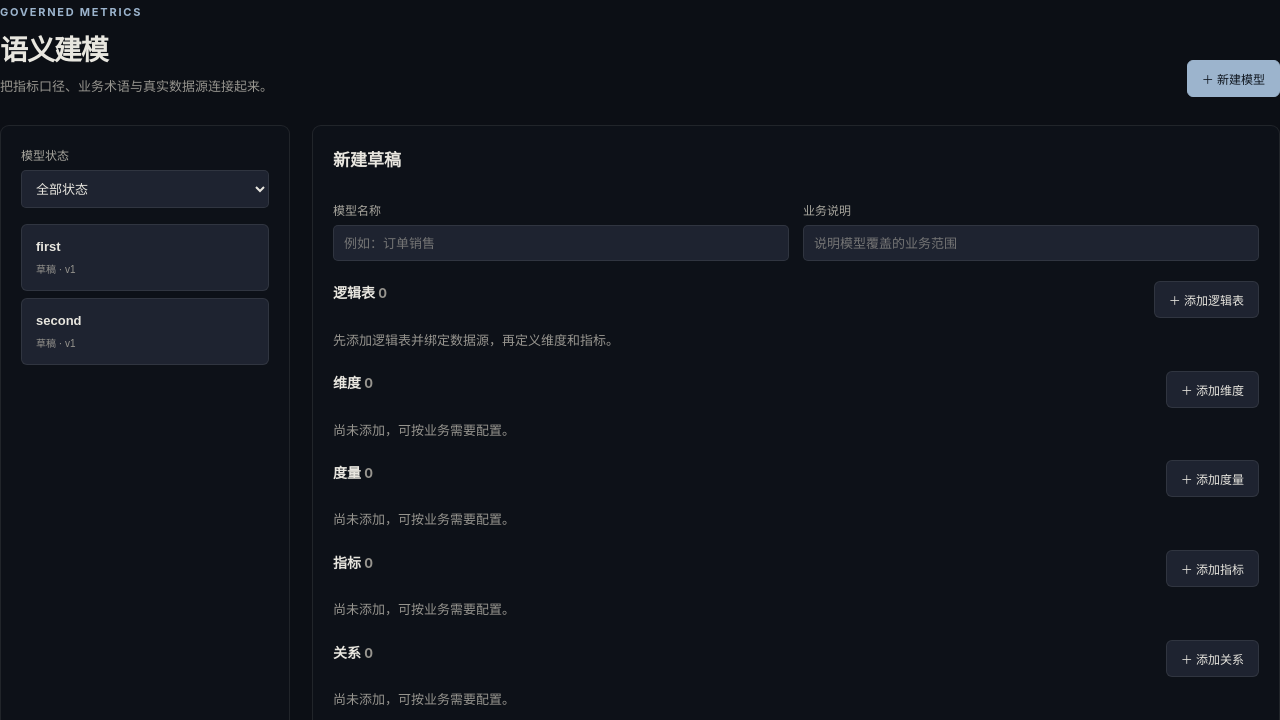
Scenario: semantic modeling console › publishes the original model when selection changes during save
This screenshot has width=1280, height=720.
Click the button "first 草稿 · v1".
click(145, 257)  # box [21, 224, 269, 291]
(page scrolled)
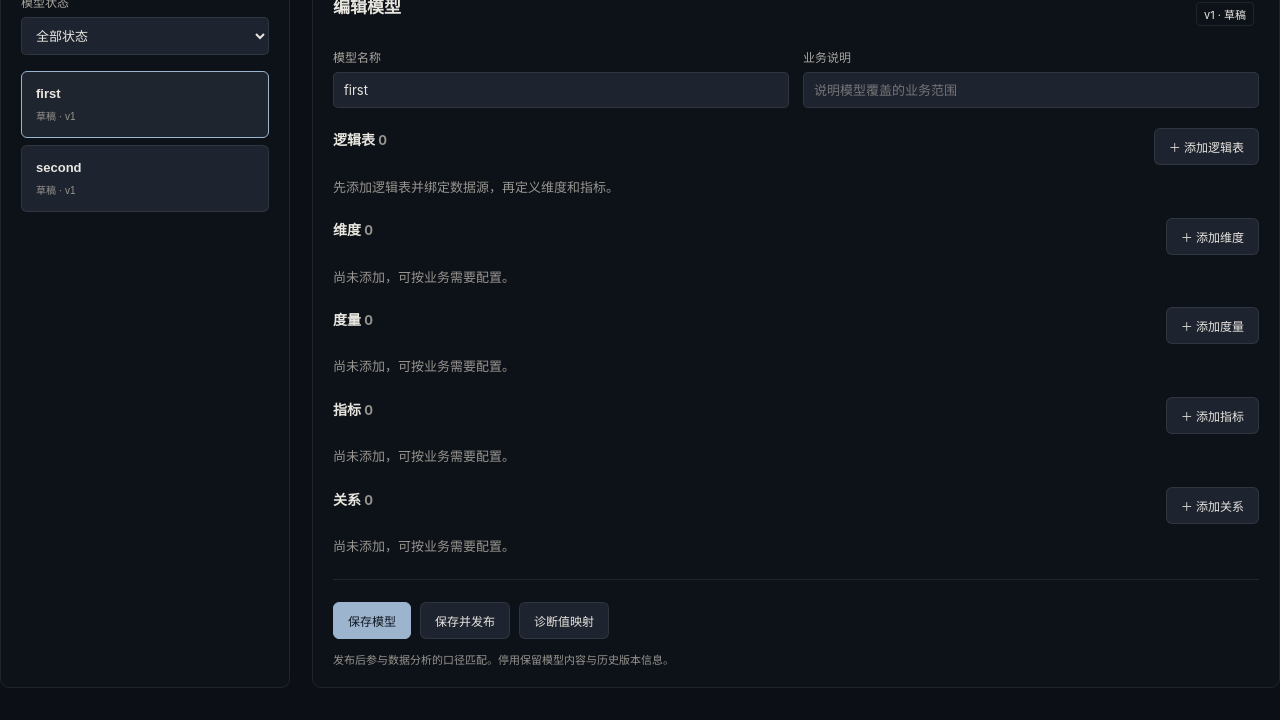
Click the button "保存并发布".
click(465, 620)  # box [420, 602, 510, 639]
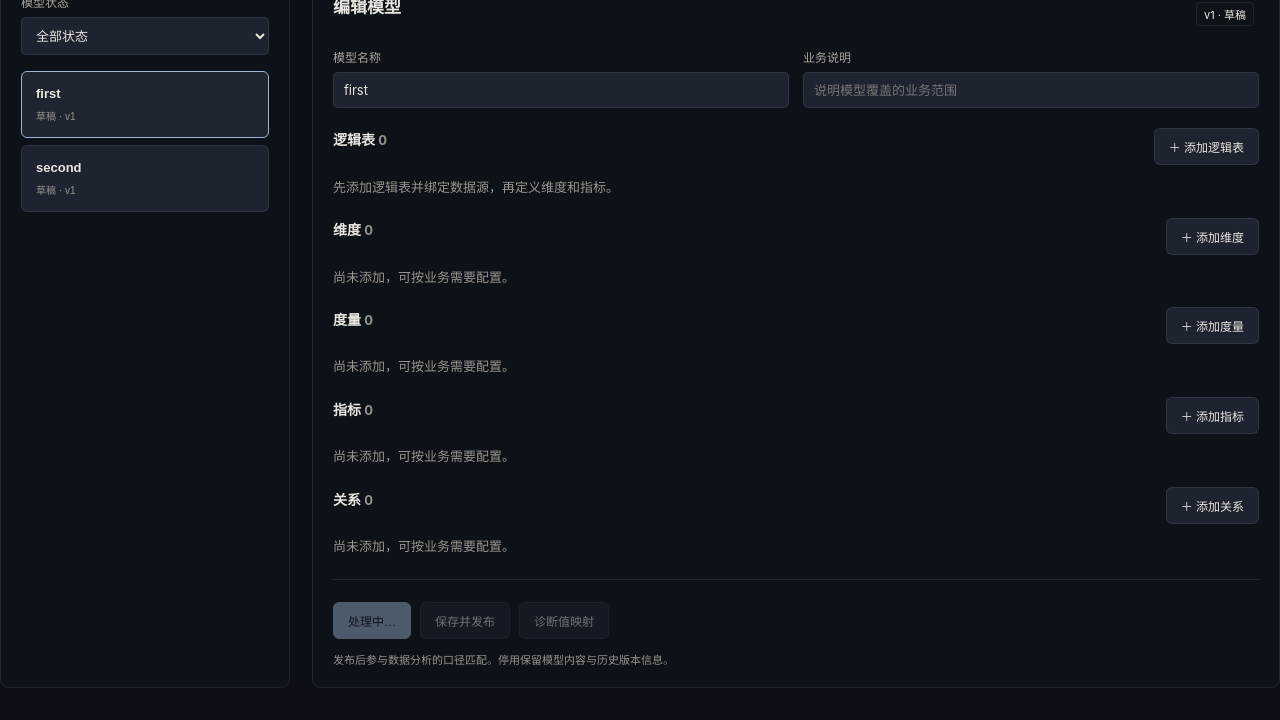
Click the button "second 草稿 · v1".
click(145, 178)  # box [21, 145, 269, 212]
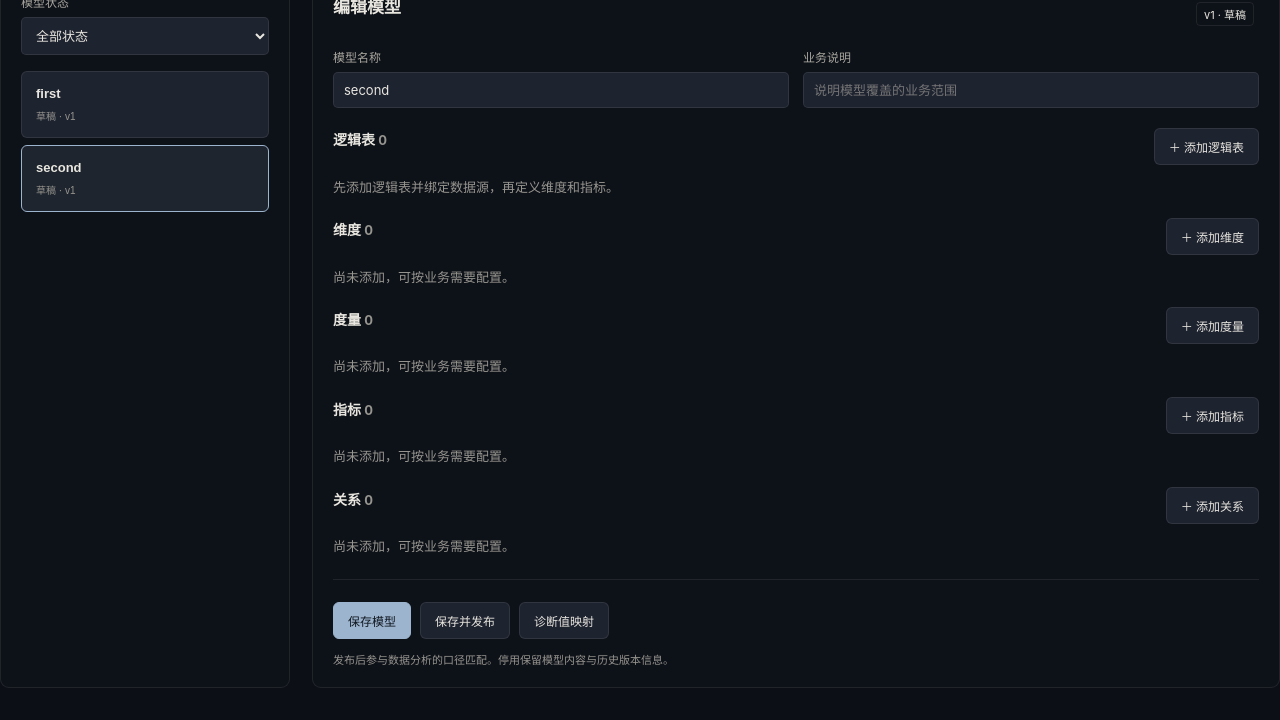
Expected: the field with placeholder "例如：订单销售" holds "second", [333, 72, 789, 108]
